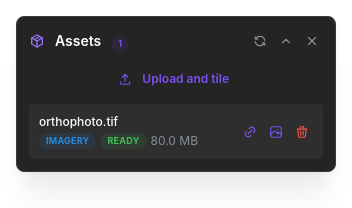
it: AssetsPanel › adds a ready imagery asset as one tile layer both renderers draw
The width and height of the screenshot is (352, 208).
Click the button named "Add orthophoto.tif as a map layer": x=276, y=132 [265,121,287,143]
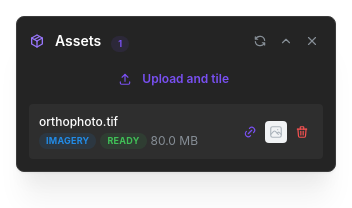
Expected: the button named "Add orthophoto.tif as a map layer" is disabled, [265,121,287,143]
